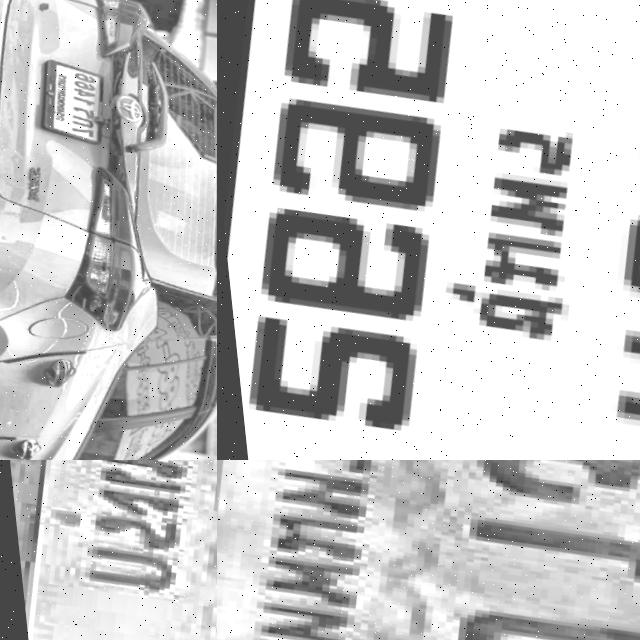license-plate: (217, 0, 640, 460), (217, 460, 640, 640), (0, 460, 217, 640), (20, 55, 115, 155)
